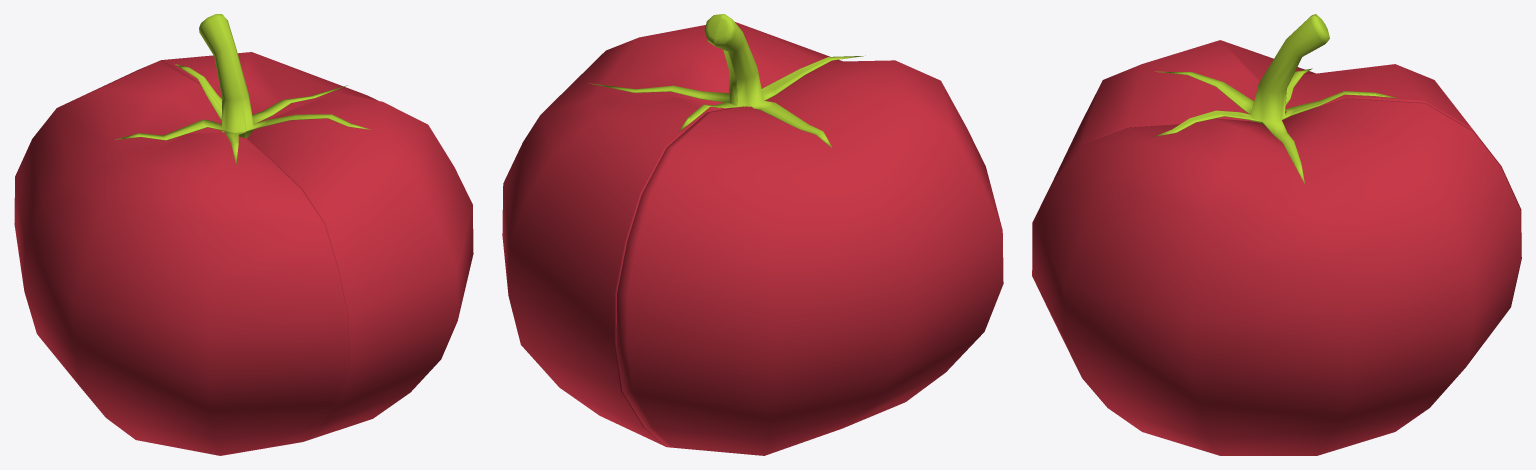
The model's file is SM_Tomato_01a.fbx.
The picture shows the model from 3 angles, left to right: view 1: azimuth 30°, elevation 25°; view 2: azimuth 150°, elevation 25°; view 3: azimuth 270°, elevation 25°; orthographic projection. The views are drawn at different scales.
Parts seen in each view (by area): view 1: Tomato_02, Tomato_01; view 2: Tomato_02, Tomato_01; view 3: Tomato_01, Tomato_02.
Part boxes in pixels (box(x1,y1,x2,y2)): Tomato_02: box(14, 14, 349, 455); Tomato_01: box(161, 14, 473, 441); Tomato_02: box(616, 14, 1003, 455); Tomato_01: box(502, 14, 842, 446); Tomato_01: box(1032, 15, 1521, 455); Tomato_02: box(1052, 14, 1488, 181).
Size of the model in its own units: 38.19 by 34.87 by 38.82.
